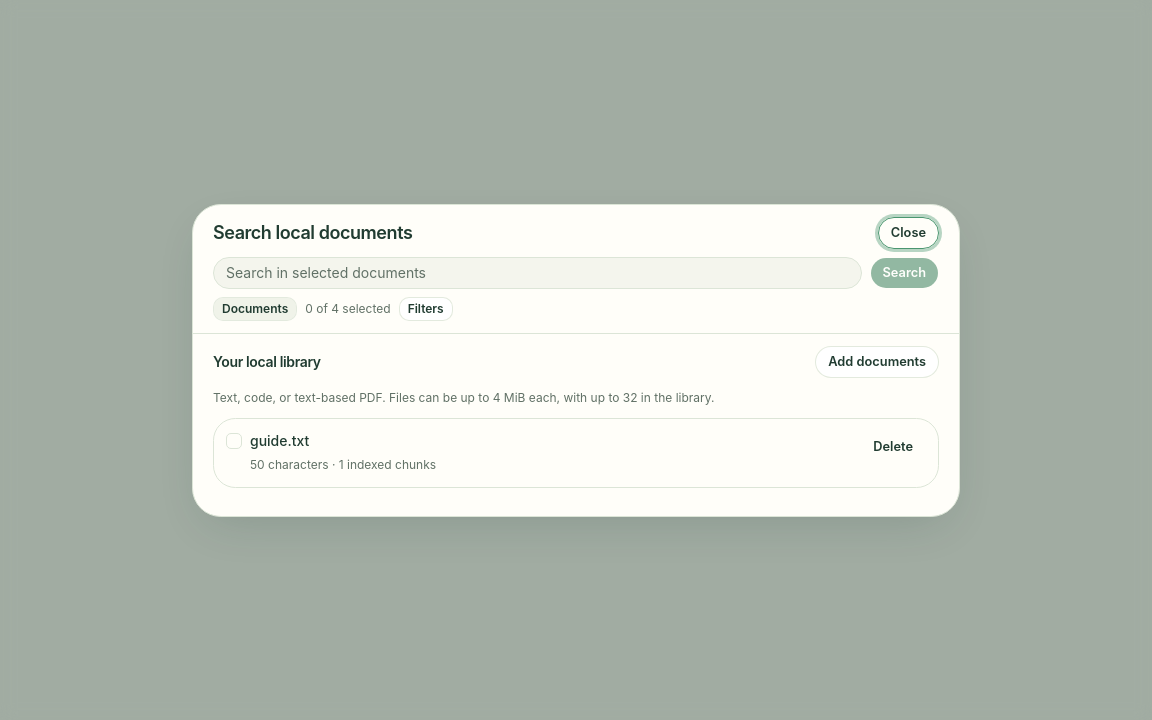
Scenario: a similarity cutoff is sent and empty results explain how to recover
Click the checkbox named "guide.txt" at (234, 440), box [226,432,242,448]
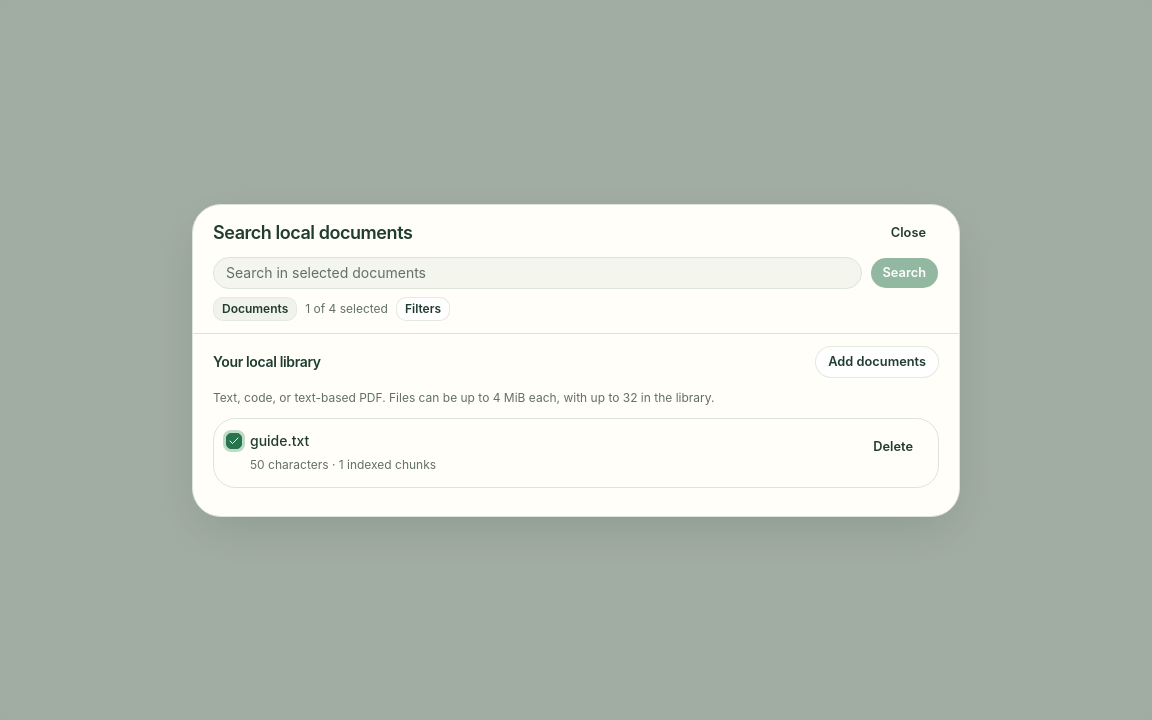
Type "unrelated question" into the field named "What are you looking for?" at (537, 272), box [213,256,862,288]
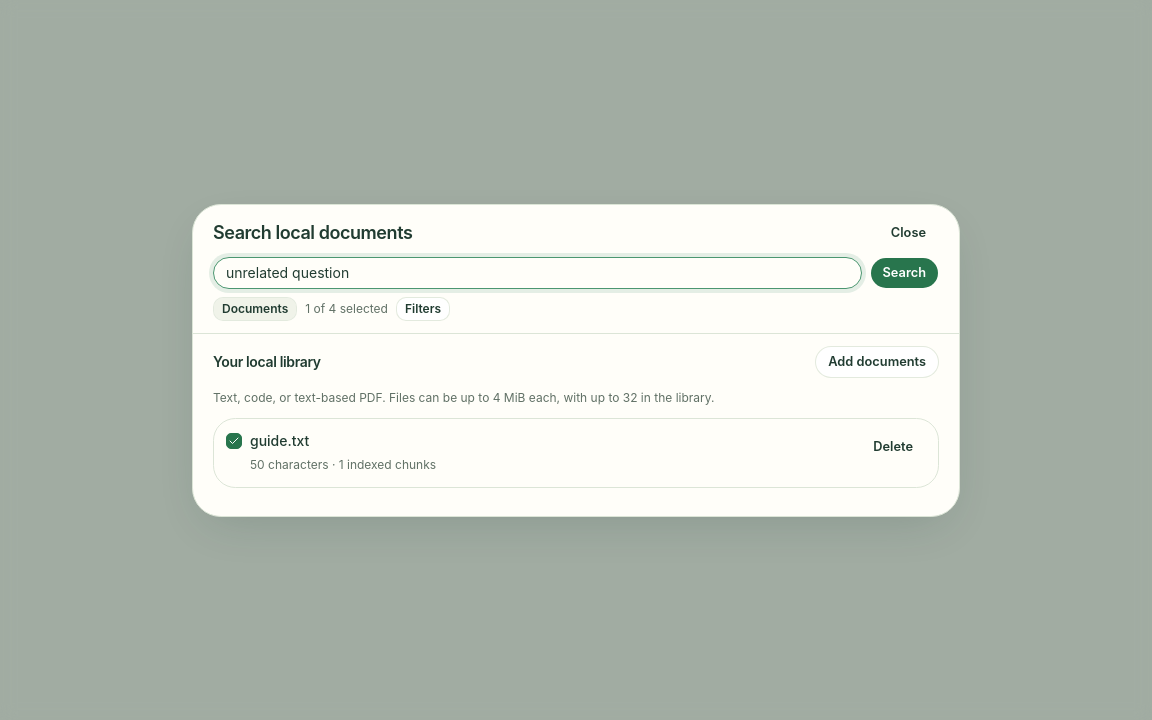
Click the button "Filters" at (423, 308), box [396,296,450,320]
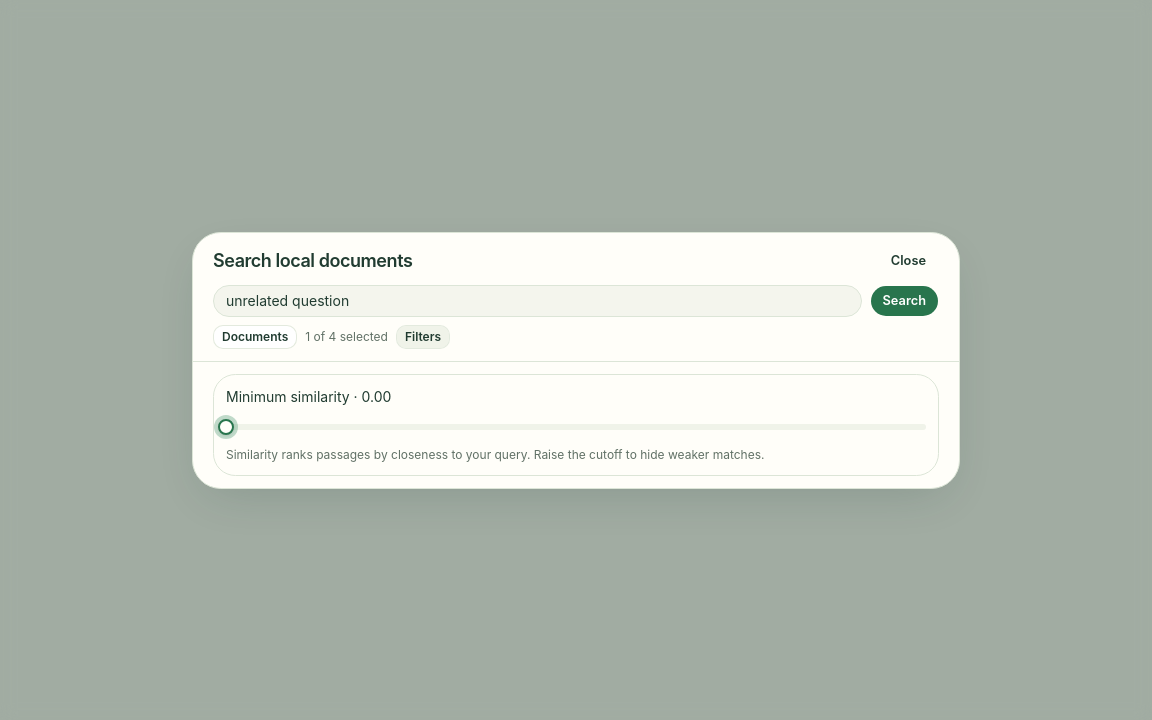
Press End
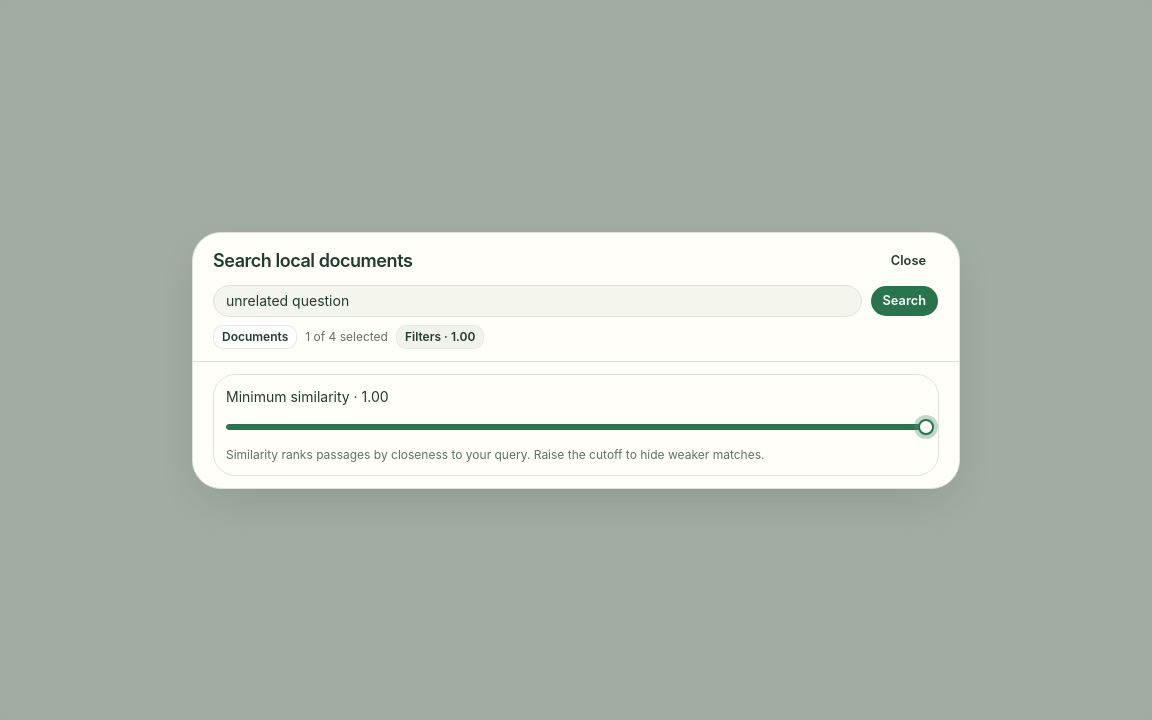
Click the button with aria-label "Search selected documents" at (904, 300), box [870,284,939,316]
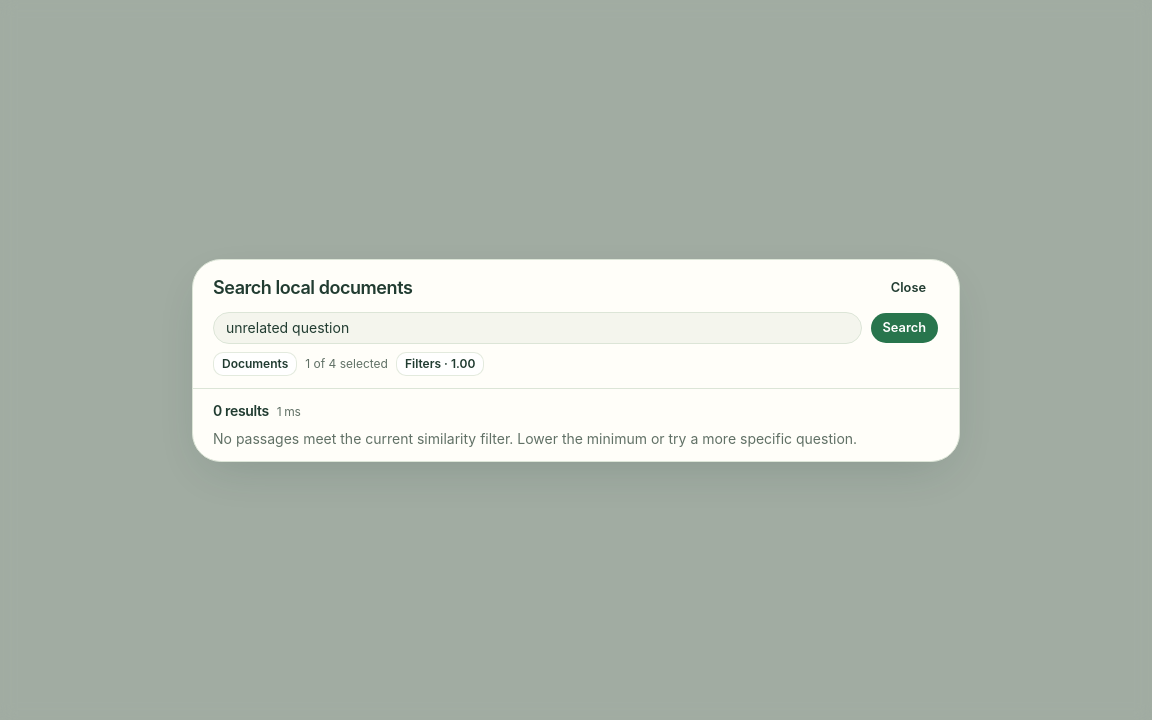
Check: the text "No passages meet the current similarity filter" is shown, box [213,430,857,446]
